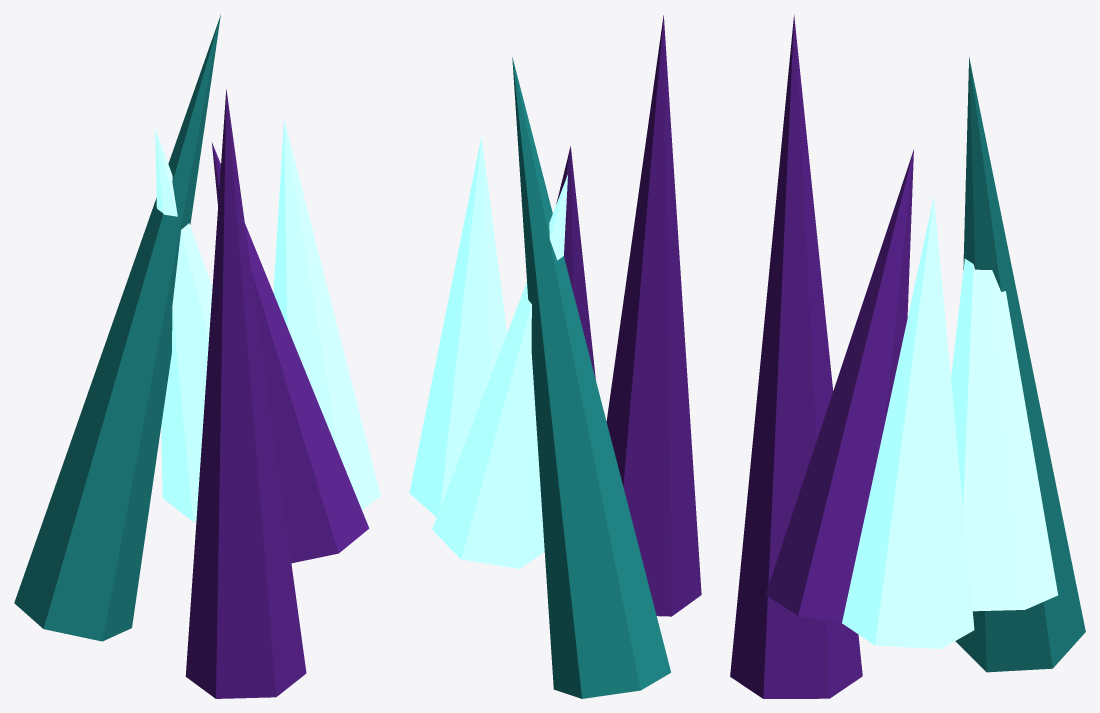
The model's file is Prop_OR_Crystal_02.glb.
3 views of the same model, side by side, from view 1: azimuth 30°, elevation 25°; view 2: azimuth 150°, elevation 25°; view 3: azimuth 270°, elevation 25° (orthographic). The views are drawn at different scales.
Parts seen in each view (by area): view 1: Prop_OR_Crystal_02; view 2: Prop_OR_Crystal_02; view 3: Prop_OR_Crystal_02.
Part boxes in pixels (left/top/right/bottom): Prop_OR_Crystal_02: left=14, top=14, right=380, bottom=698; Prop_OR_Crystal_02: left=409, top=15, right=701, bottom=698; Prop_OR_Crystal_02: left=730, top=14, right=1085, bottom=698.
Size of the model in its own units: 0.685 by 1.38 by 0.6701.
